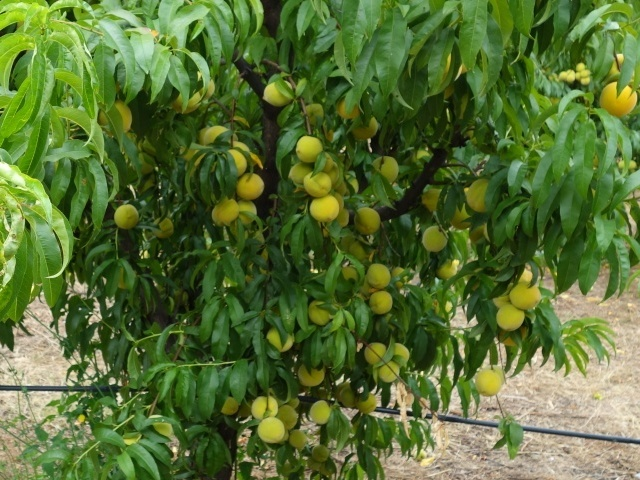peach: (596, 79, 640, 123), (97, 98, 135, 140), (464, 177, 500, 216), (307, 192, 343, 227), (472, 363, 508, 398), (260, 75, 298, 108), (234, 168, 269, 203), (205, 194, 241, 227), (506, 281, 545, 311), (418, 222, 451, 257), (290, 132, 326, 164), (368, 153, 402, 186), (293, 356, 328, 388), (223, 140, 253, 177), (495, 303, 529, 335), (300, 169, 335, 200), (263, 323, 296, 355), (199, 123, 233, 154), (254, 414, 287, 445), (170, 87, 204, 117), (351, 206, 383, 237), (249, 394, 281, 425), (364, 259, 394, 292), (305, 298, 335, 331), (348, 114, 381, 143), (286, 159, 316, 189), (331, 91, 361, 121), (109, 203, 140, 232), (366, 288, 395, 318), (419, 185, 447, 215), (360, 339, 390, 367), (307, 397, 335, 427), (385, 337, 412, 368), (231, 198, 260, 226), (491, 288, 520, 316), (275, 400, 301, 430), (374, 359, 401, 387), (149, 217, 178, 242), (434, 258, 460, 284), (384, 266, 411, 291), (132, 152, 158, 177), (301, 101, 326, 127), (218, 392, 242, 419), (353, 391, 378, 415), (289, 429, 311, 453), (337, 385, 358, 408)
